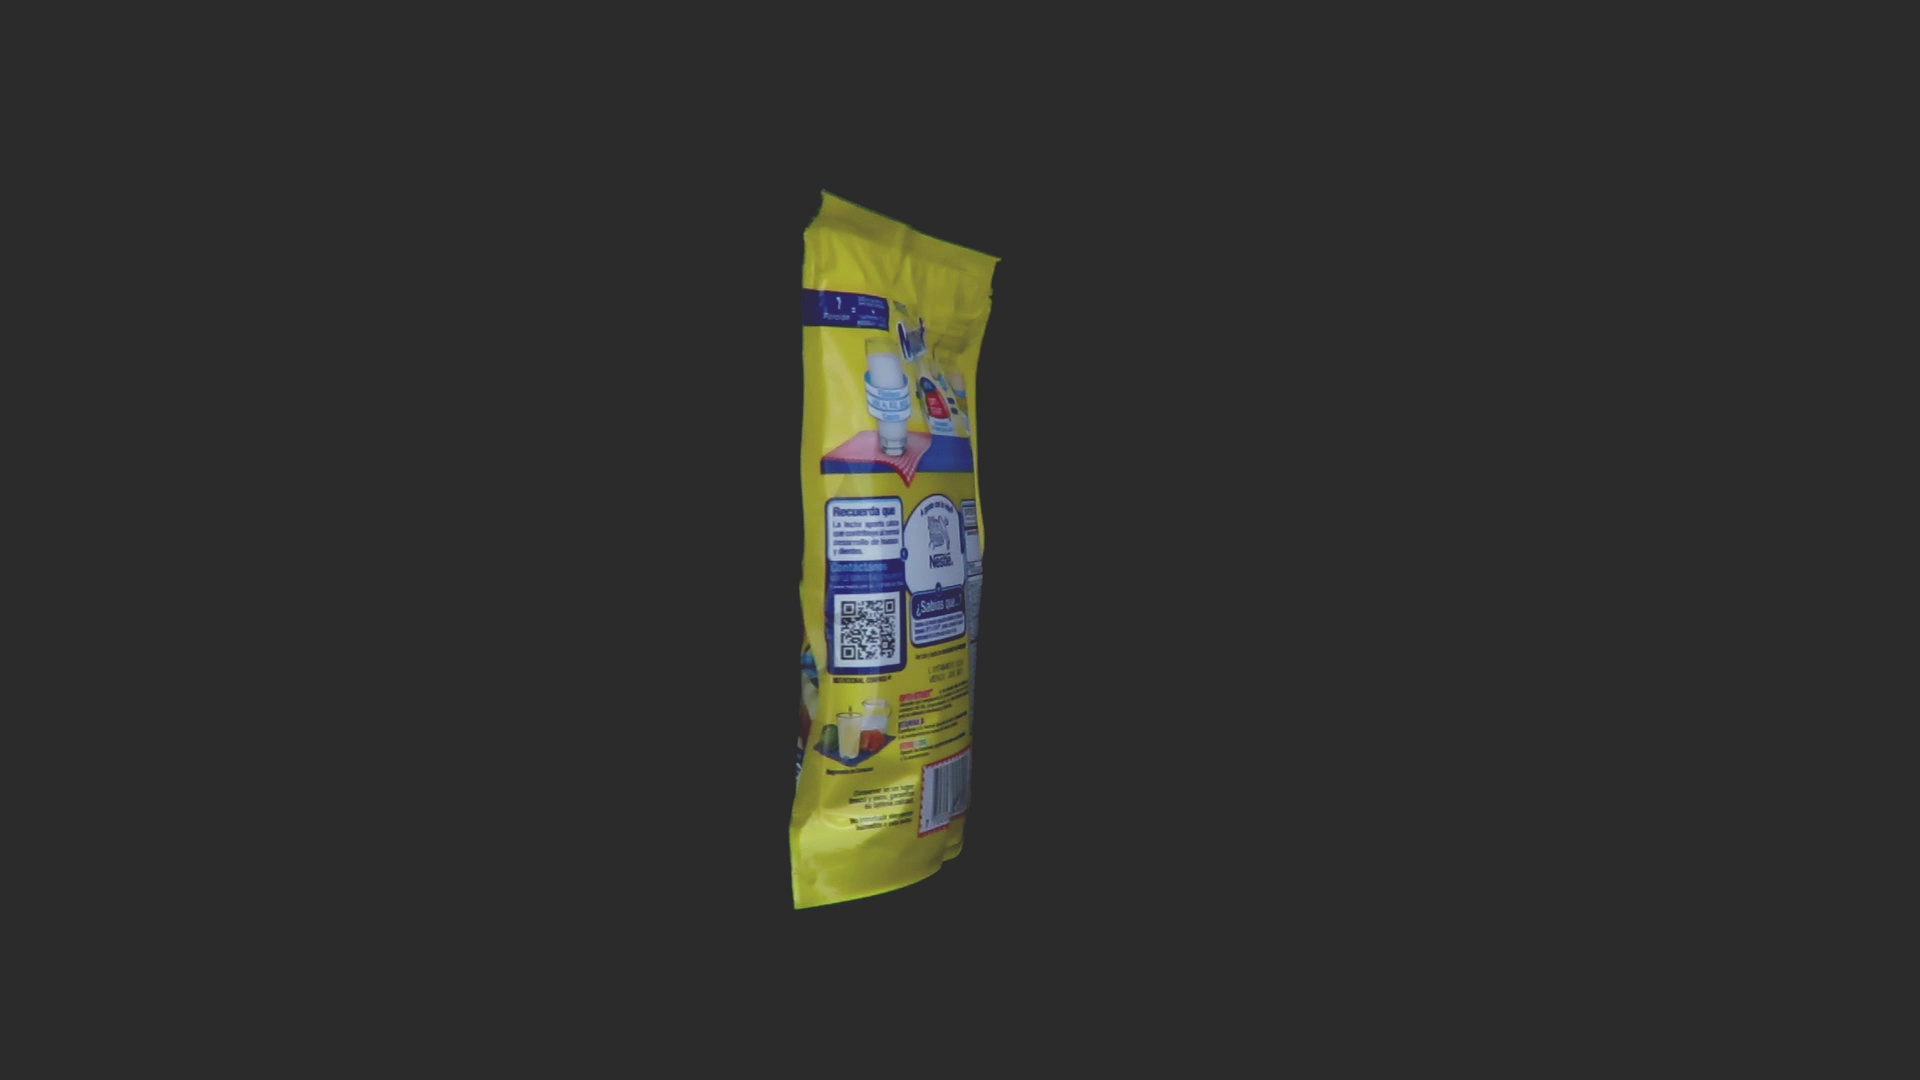COL0170306DYP20000: (785, 183, 1007, 916)
